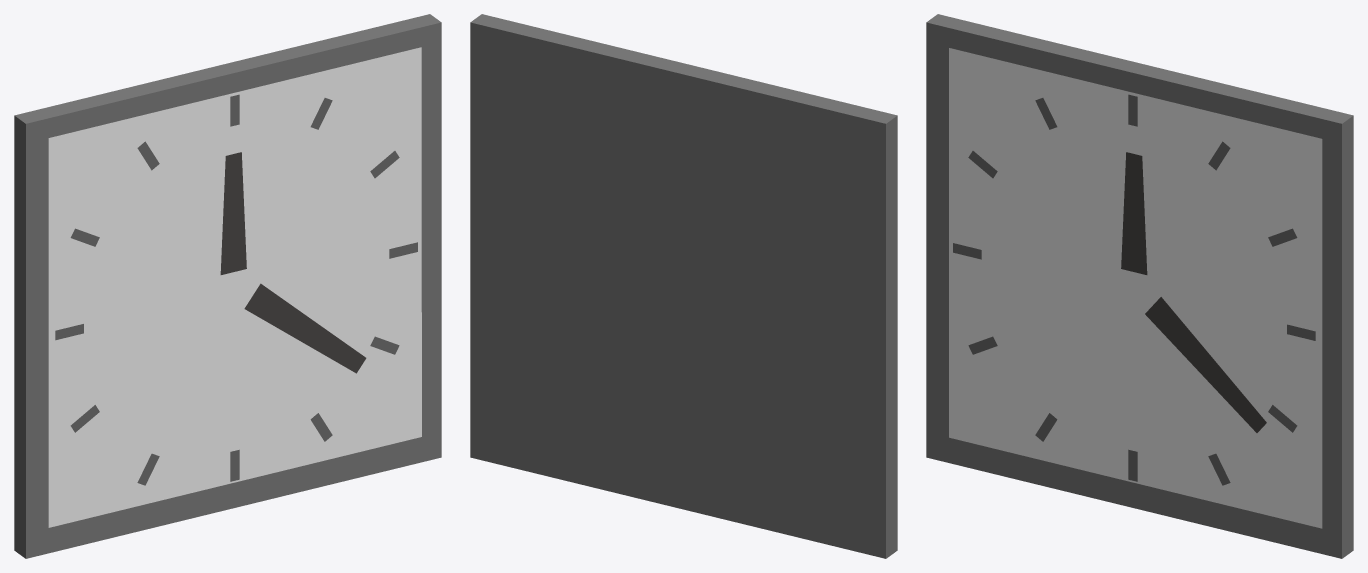
3 views of the same model, side by side, from view 1: azimuth 30°, elevation 25°; view 2: azimuth 150°, elevation 25°; view 3: azimuth 330°, elevation 25° (orthographic).
Visible parts, largest first — view 1: door1:polySurface2; view 2: door1:polySurface2; view 3: door1:polySurface2.
Boxes of the visible parts, bbox=[...] form: door1:polySurface2: bbox=[14, 14, 441, 558]; door1:polySurface2: bbox=[470, 14, 897, 558]; door1:polySurface2: bbox=[926, 14, 1353, 558].
Size of the model in its own units: 45 by 45 by 2.41.
